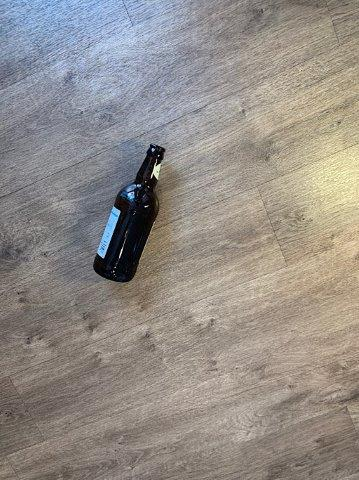botolkaca: (93, 144, 166, 281)
